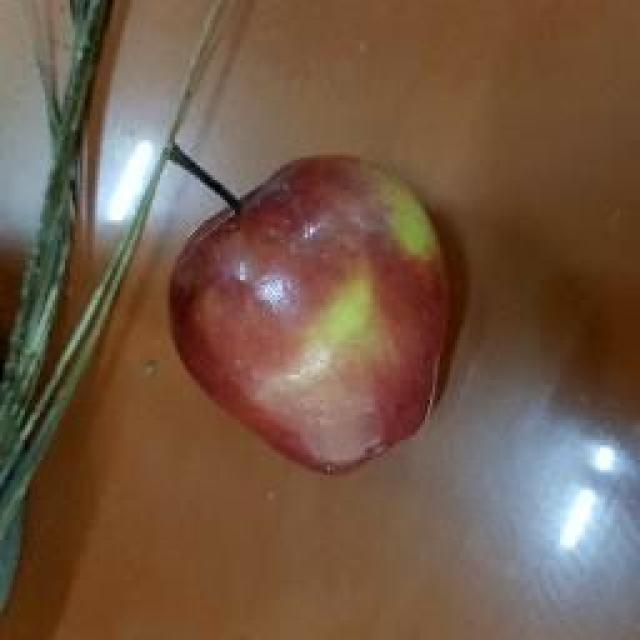Good_Apple: (168, 155, 460, 478)
